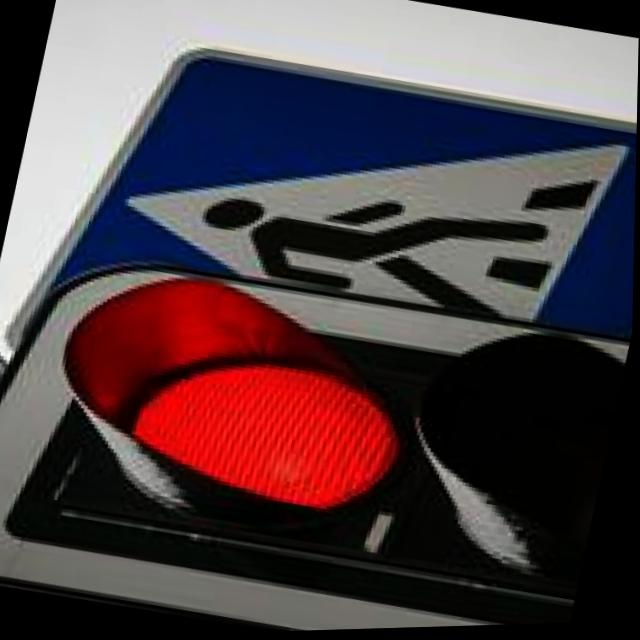red_light: (0, 201, 446, 635)
